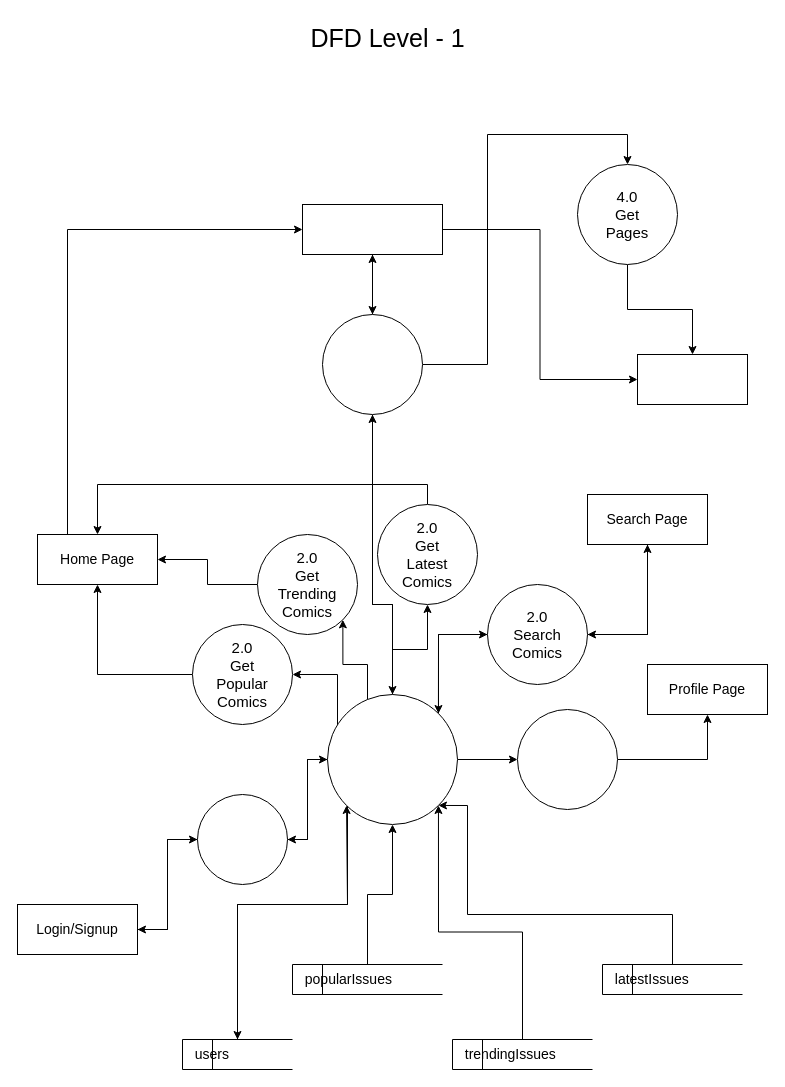
Some shapes in this 785 by 1087 pixel diagram are drawn without their labels. Here are the shapes that lost their labels. From the top down, the box of each, then its label:
(302, 204, 442, 254): Issue Detail Page
(322, 314, 422, 414): 3.0 Get Details
(636, 354, 748, 404): Reader
(326, 694, 458, 824): 1.0 Comic Corner
(516, 708, 618, 810): 2.0 Get Profile
(196, 794, 288, 884): 1.0 Get/Create User
